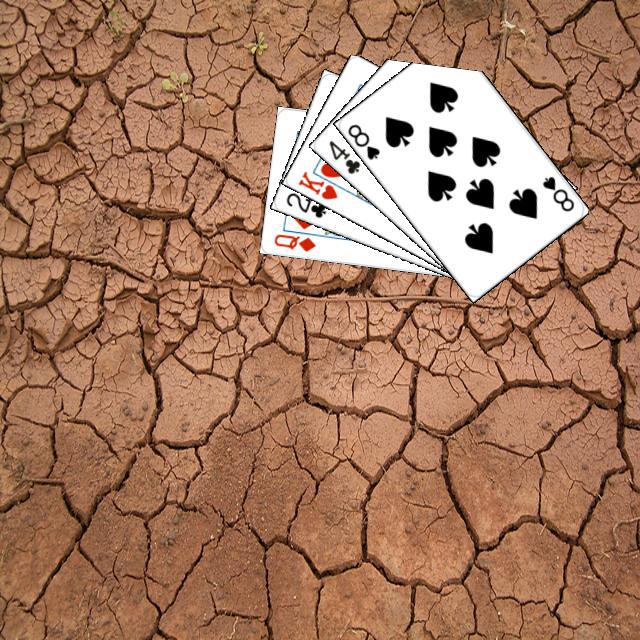2c: (281, 188, 328, 220)
4c: (324, 135, 362, 176)
8s: (343, 119, 382, 161), (537, 171, 576, 213)
Kh: (293, 164, 348, 201)
Qd: (269, 229, 317, 253)
